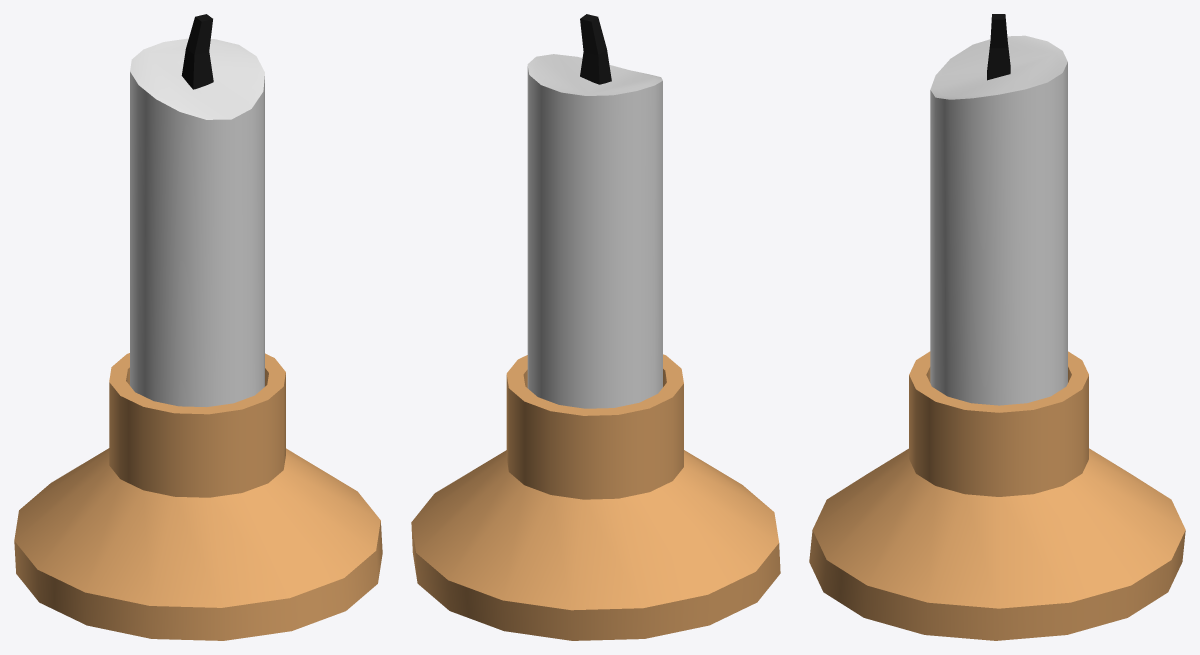
File: smallcandle.fbx
3 views of the same model, side by side, from view 1: azimuth 30°, elevation 25°; view 2: azimuth 150°, elevation 25°; view 3: azimuth 270°, elevation 25° (orthographic).
Parts seen in each view (by area): view 1: smallcandle; view 2: smallcandle; view 3: smallcandle.
Part boxes in pixels (<box>): smallcandle: <box>14,14,382,640</box>; smallcandle: <box>411,14,780,640</box>; smallcandle: <box>809,14,1185,640</box>.
Bounding box in the file's own units: 0.1224 × 0.1984 × 0.1234.
